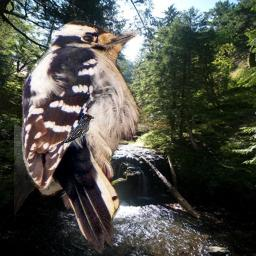Swallow: (61, 114, 94, 143)
Woodpecker: (14, 17, 172, 254)
